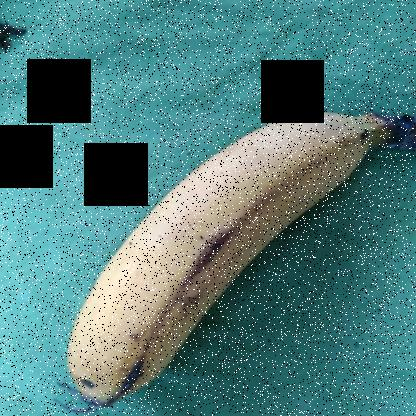freshripe: (60, 102, 372, 415)
